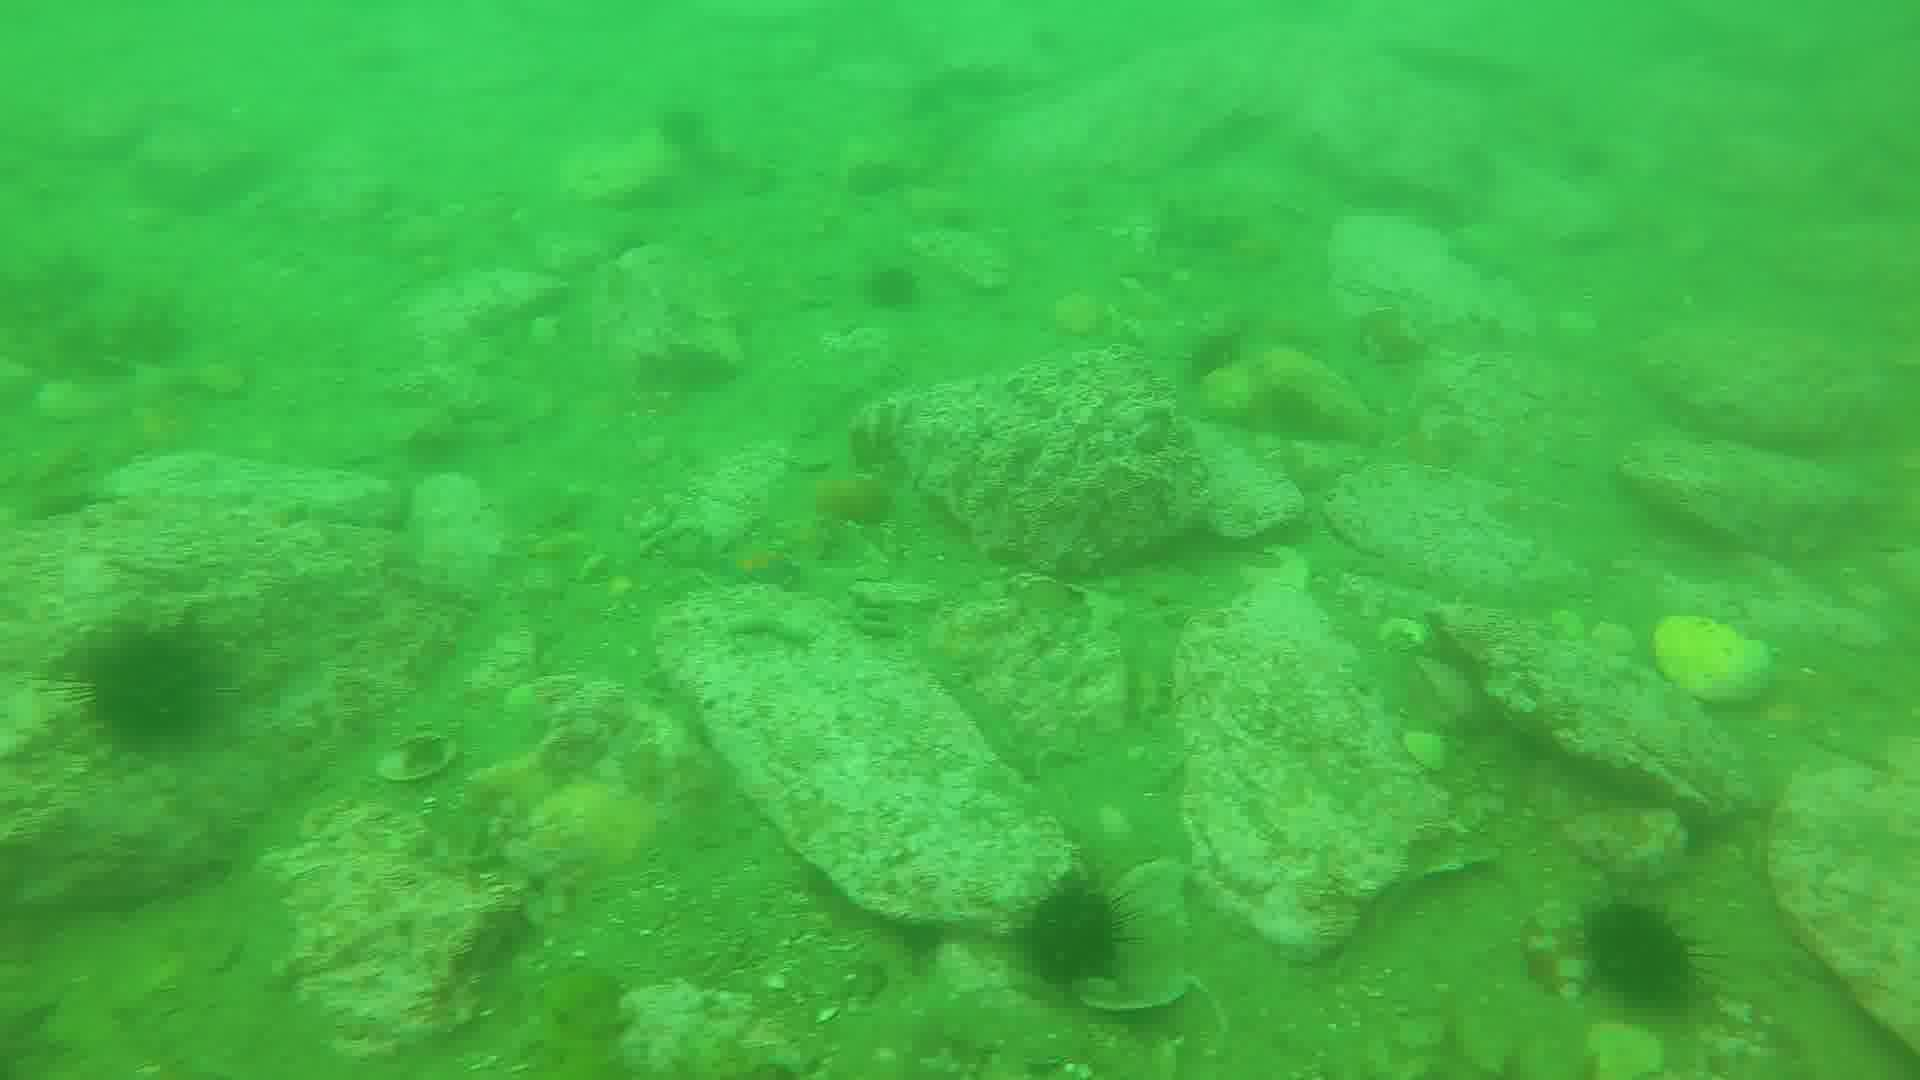echinus: (73, 624, 207, 750), (1584, 902, 1708, 1011), (1026, 881, 1127, 990), (861, 266, 920, 311)
starfish: (713, 531, 807, 591)
